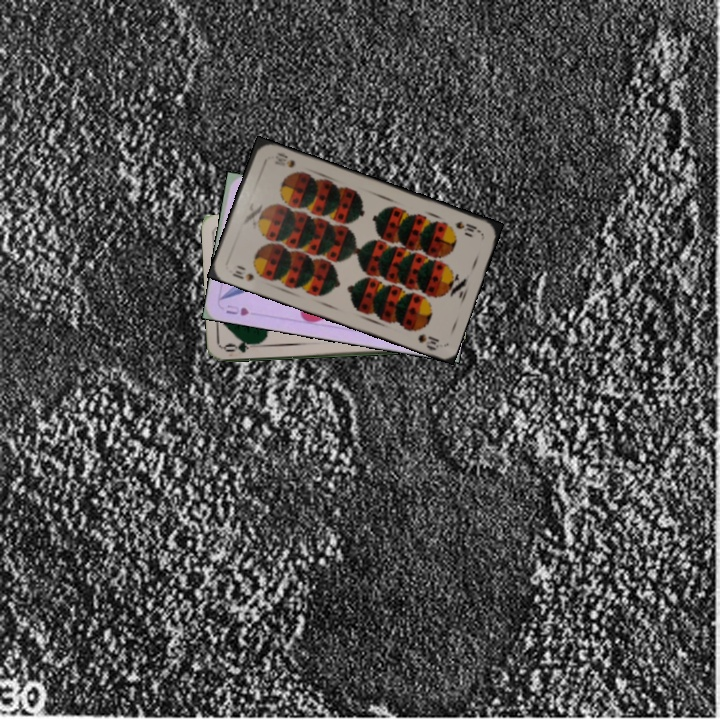GO: (221, 337, 262, 355)
HU: (222, 300, 252, 318)
S10: (451, 217, 483, 238), (228, 261, 257, 284)
